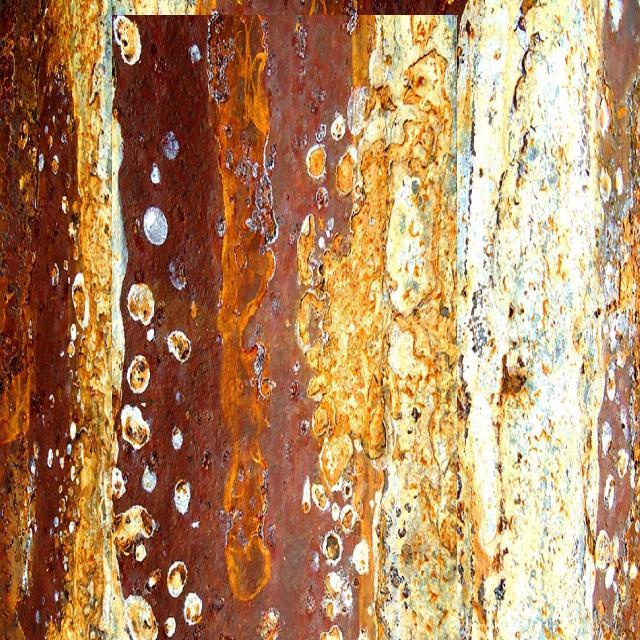Corrosion: (211, 15, 352, 640), (0, 0, 130, 640), (113, 16, 229, 640)
